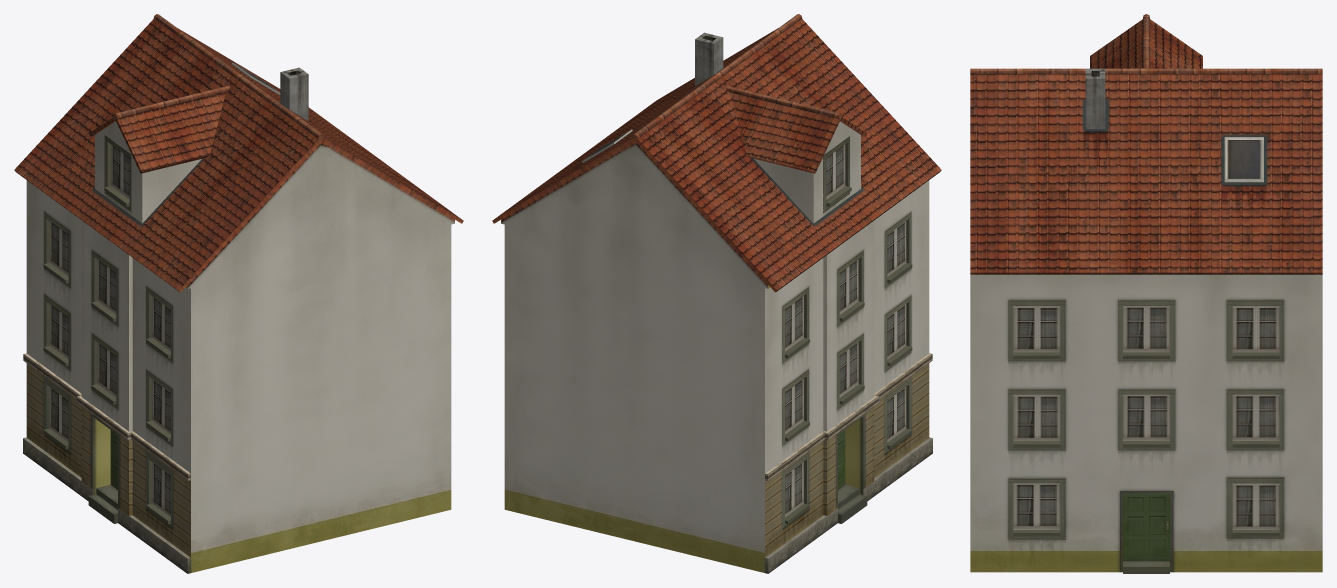
File: city_house_1.obj
3 renders of one model, left to right at view 1: azimuth 30°, elevation 25°; view 2: azimuth 150°, elevation 25°; view 3: azimuth 270°, elevation 25°, orthographic. The views are drawn at different scales.
Parts seen in each view (by area): view 1: apartmenthouseE; view 2: apartmenthouseE; view 3: apartmenthouseE.
Boxes of the visible parts, box(x1,y1,x2,y2) form: apartmenthouseE: box(14, 14, 463, 573); apartmenthouseE: box(492, 14, 941, 573); apartmenthouseE: box(970, 14, 1322, 573).
Bounding box in the file's own units: 9 × 12.6 × 9.
1 material, 1 textured.
